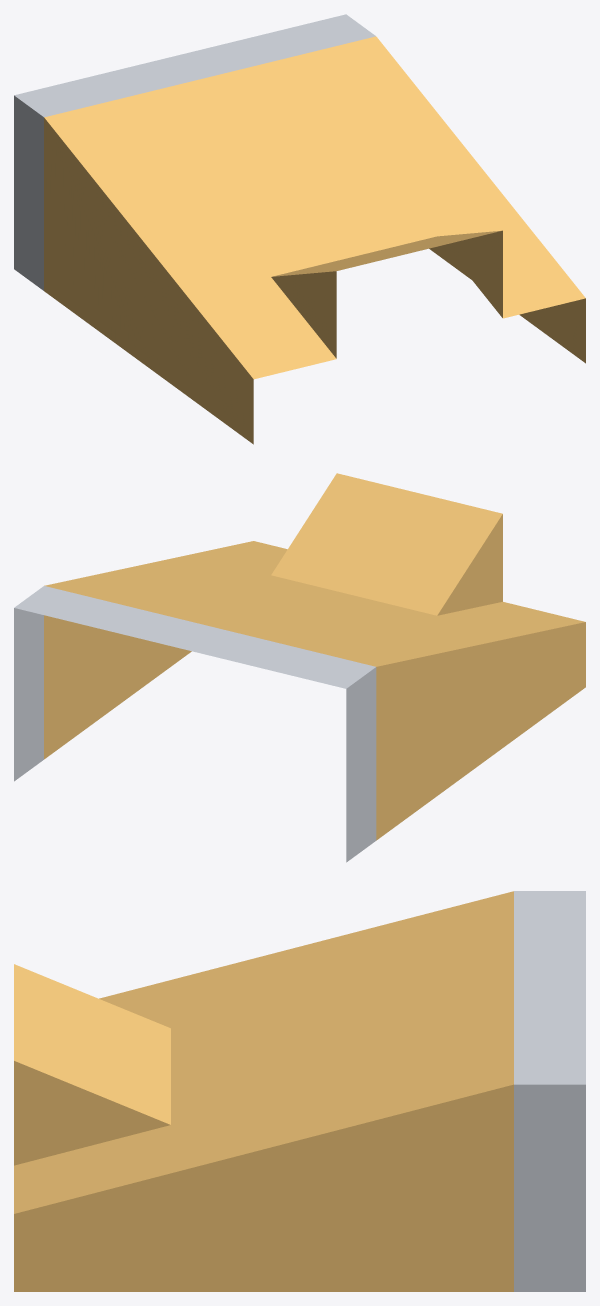
3 renders of one model, top to bottom at view 1: azimuth 30°, elevation 25°; view 2: azimuth 150°, elevation 25°; view 3: azimuth 270°, elevation 25°, orthographic. The views are drawn at different scales.
Size of the model in its own units: 0.8 by 0.4 by 1.
